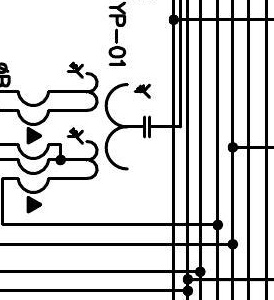115_cvt_3p: (66, 61, 151, 181)
